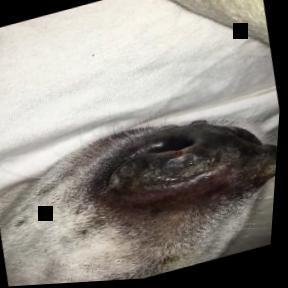keratosis: (102, 120, 281, 224)
